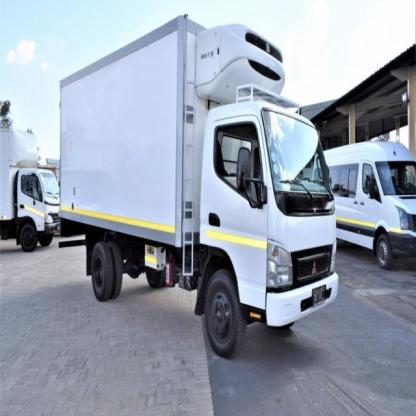truck: (60, 17, 340, 357), (2, 130, 61, 245)
